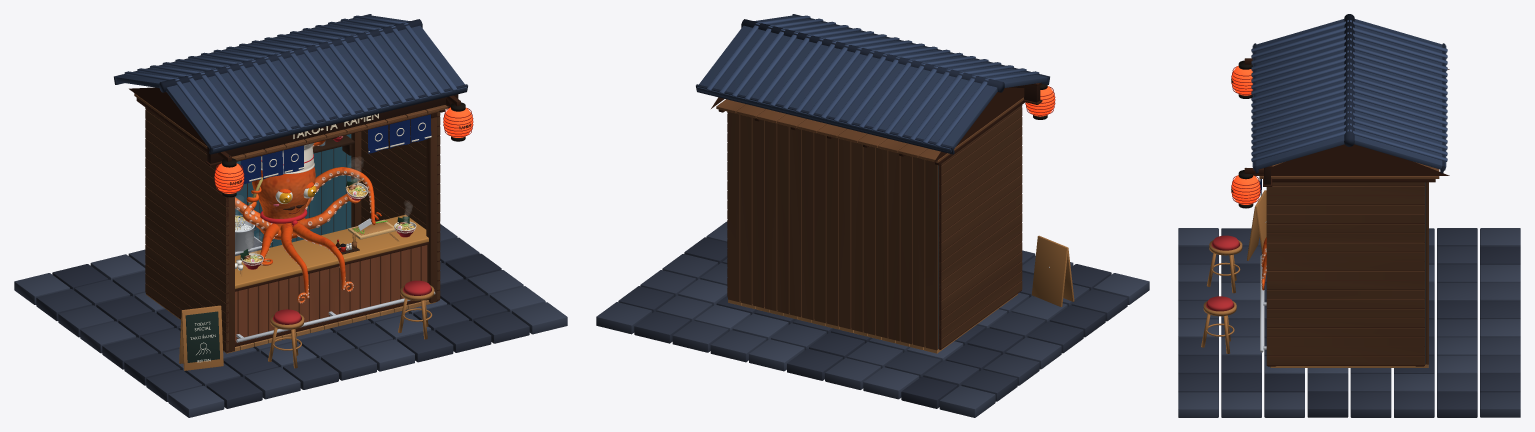
Rendered from takoya_ramen_booth.glb.
3 renders of one model, left to right at view 1: azimuth 30°, elevation 25°; view 2: azimuth 150°, elevation 25°; view 3: azimuth 270°, elevation 25°, orthographic. The views are drawn at different scales.
Visible parts, largest first — view 1: Street_Tiles, Side_Wall_L, Roof_F, Roof_Ribs_F, Counter_Front, Side_Wall_R, Counter_Top, Roof_Ribs_B, Noren, Back_Wall, Roof_B, Octopus_Mantle (+22 smaller); view 2: Back_Wall_Outer, Street_Tiles, Side_Wall_L, Roof_B, Roof_Ribs_B, Roof_Ribs_F, Ceiling, Side_Wall_Core_L, Roof_F, AFrame_BackBoard, Roof_Ridge, Gable_L (+3 smaller); view 3: Street_Tiles, Side_Wall_R, Roof_Ribs_B, Roof_Ribs_F, Roof_B, Roof_F, Side_Wall_Core_R, Gable_R, Roof_Ridge, Lantern_R, Rafter_6, Ceiling (+8 smaller).
Part boxes in pixels (x1=…): Street_Tiles: x1=14, y1=224, x2=567, y2=417; Side_Wall_L: x1=145, y1=107, x2=228, y2=351; Roof_F: x1=166, y1=25, x2=467, y2=152; Roof_Ribs_F: x1=174, y1=22, x2=457, y2=146; Counter_Front: x1=235, y1=245, x2=427, y2=340; Side_Wall_R: x1=361, y1=111, x2=440, y2=299; Counter_Top: x1=235, y1=214, x2=428, y2=288; Roof_Ribs_B: x1=124, y1=15, x2=408, y2=80; Noren: x1=240, y1=114, x2=431, y2=184; Back_Wall: x1=235, y1=134, x2=351, y2=247; Roof_B: x1=116, y1=15, x2=409, y2=87; Octopus_Mantle: x1=252, y1=167, x2=315, y2=239; Back_Wall_Outer: x1=728, y1=112, x2=938, y2=350; Street_Tiles: x1=596, y1=221, x2=1149, y2=417; Side_Wall_L: x1=939, y1=105, x2=1022, y2=348; Roof_B: x1=696, y1=25, x2=997, y2=152; Roof_Ribs_B: x1=706, y1=22, x2=989, y2=146; Roof_Ribs_F: x1=755, y1=15, x2=1039, y2=80; Ceiling: x1=716, y1=97, x2=1023, y2=162; Side_Wall_Core_L: x1=939, y1=106, x2=1021, y2=349; Roof_F: x1=754, y1=15, x2=1047, y2=87; AFrame_BackBoard: x1=1031, y1=236, x2=1068, y2=306; Roof_Ridge: x1=741, y1=19, x2=1004, y2=92; Gable_L: x1=933, y1=87, x2=1024, y2=163; Street_Tiles: x1=1178, y1=228, x2=1520, y2=417; Side_Wall_R: x1=1266, y1=182, x2=1424, y2=364; Roof_Ribs_B: x1=1347, y1=20, x2=1447, y2=161; Roof_Ribs_F: x1=1251, y1=20, x2=1351, y2=161; Roof_B: x1=1354, y1=19, x2=1446, y2=170; Roof_F: x1=1252, y1=19, x2=1344, y2=170; Side_Wall_Core_R: x1=1266, y1=185, x2=1424, y2=365; Gable_R: x1=1253, y1=144, x2=1449, y2=175; Roof_Ridge: x1=1344, y1=14, x2=1354, y2=146; Lantern_R: x1=1231, y1=175, x2=1260, y2=204; Rafter_6: x1=1272, y1=179, x2=1435, y2=182; Ceiling: x1=1259, y1=162, x2=1439, y2=178.
Bounding box in the file's own units: 5.97 × 3.87 × 4.77.
